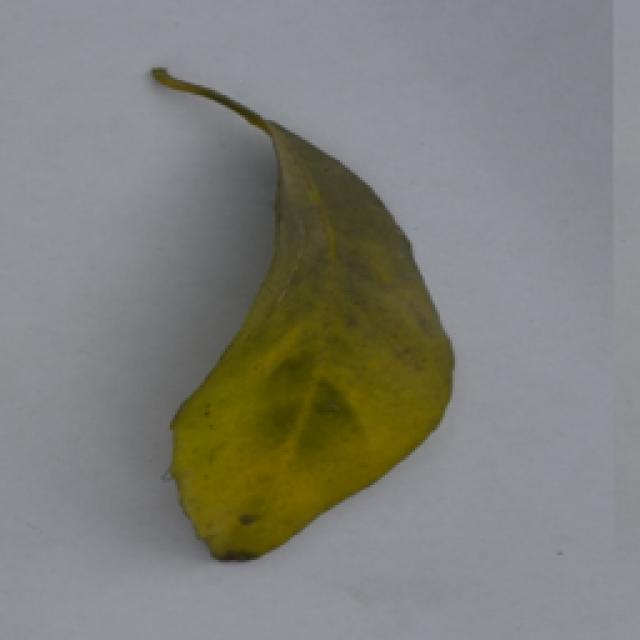blackspot: (119, 31, 505, 577)
